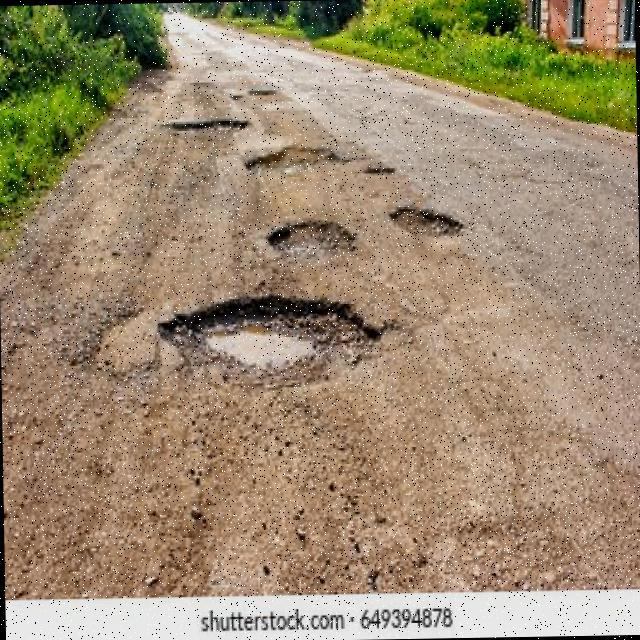Pothole: (161, 299, 366, 369), (389, 207, 463, 235), (267, 222, 344, 248), (246, 148, 336, 166), (164, 118, 248, 131)
